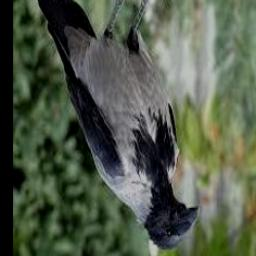Crow: (36, 0, 199, 250)
